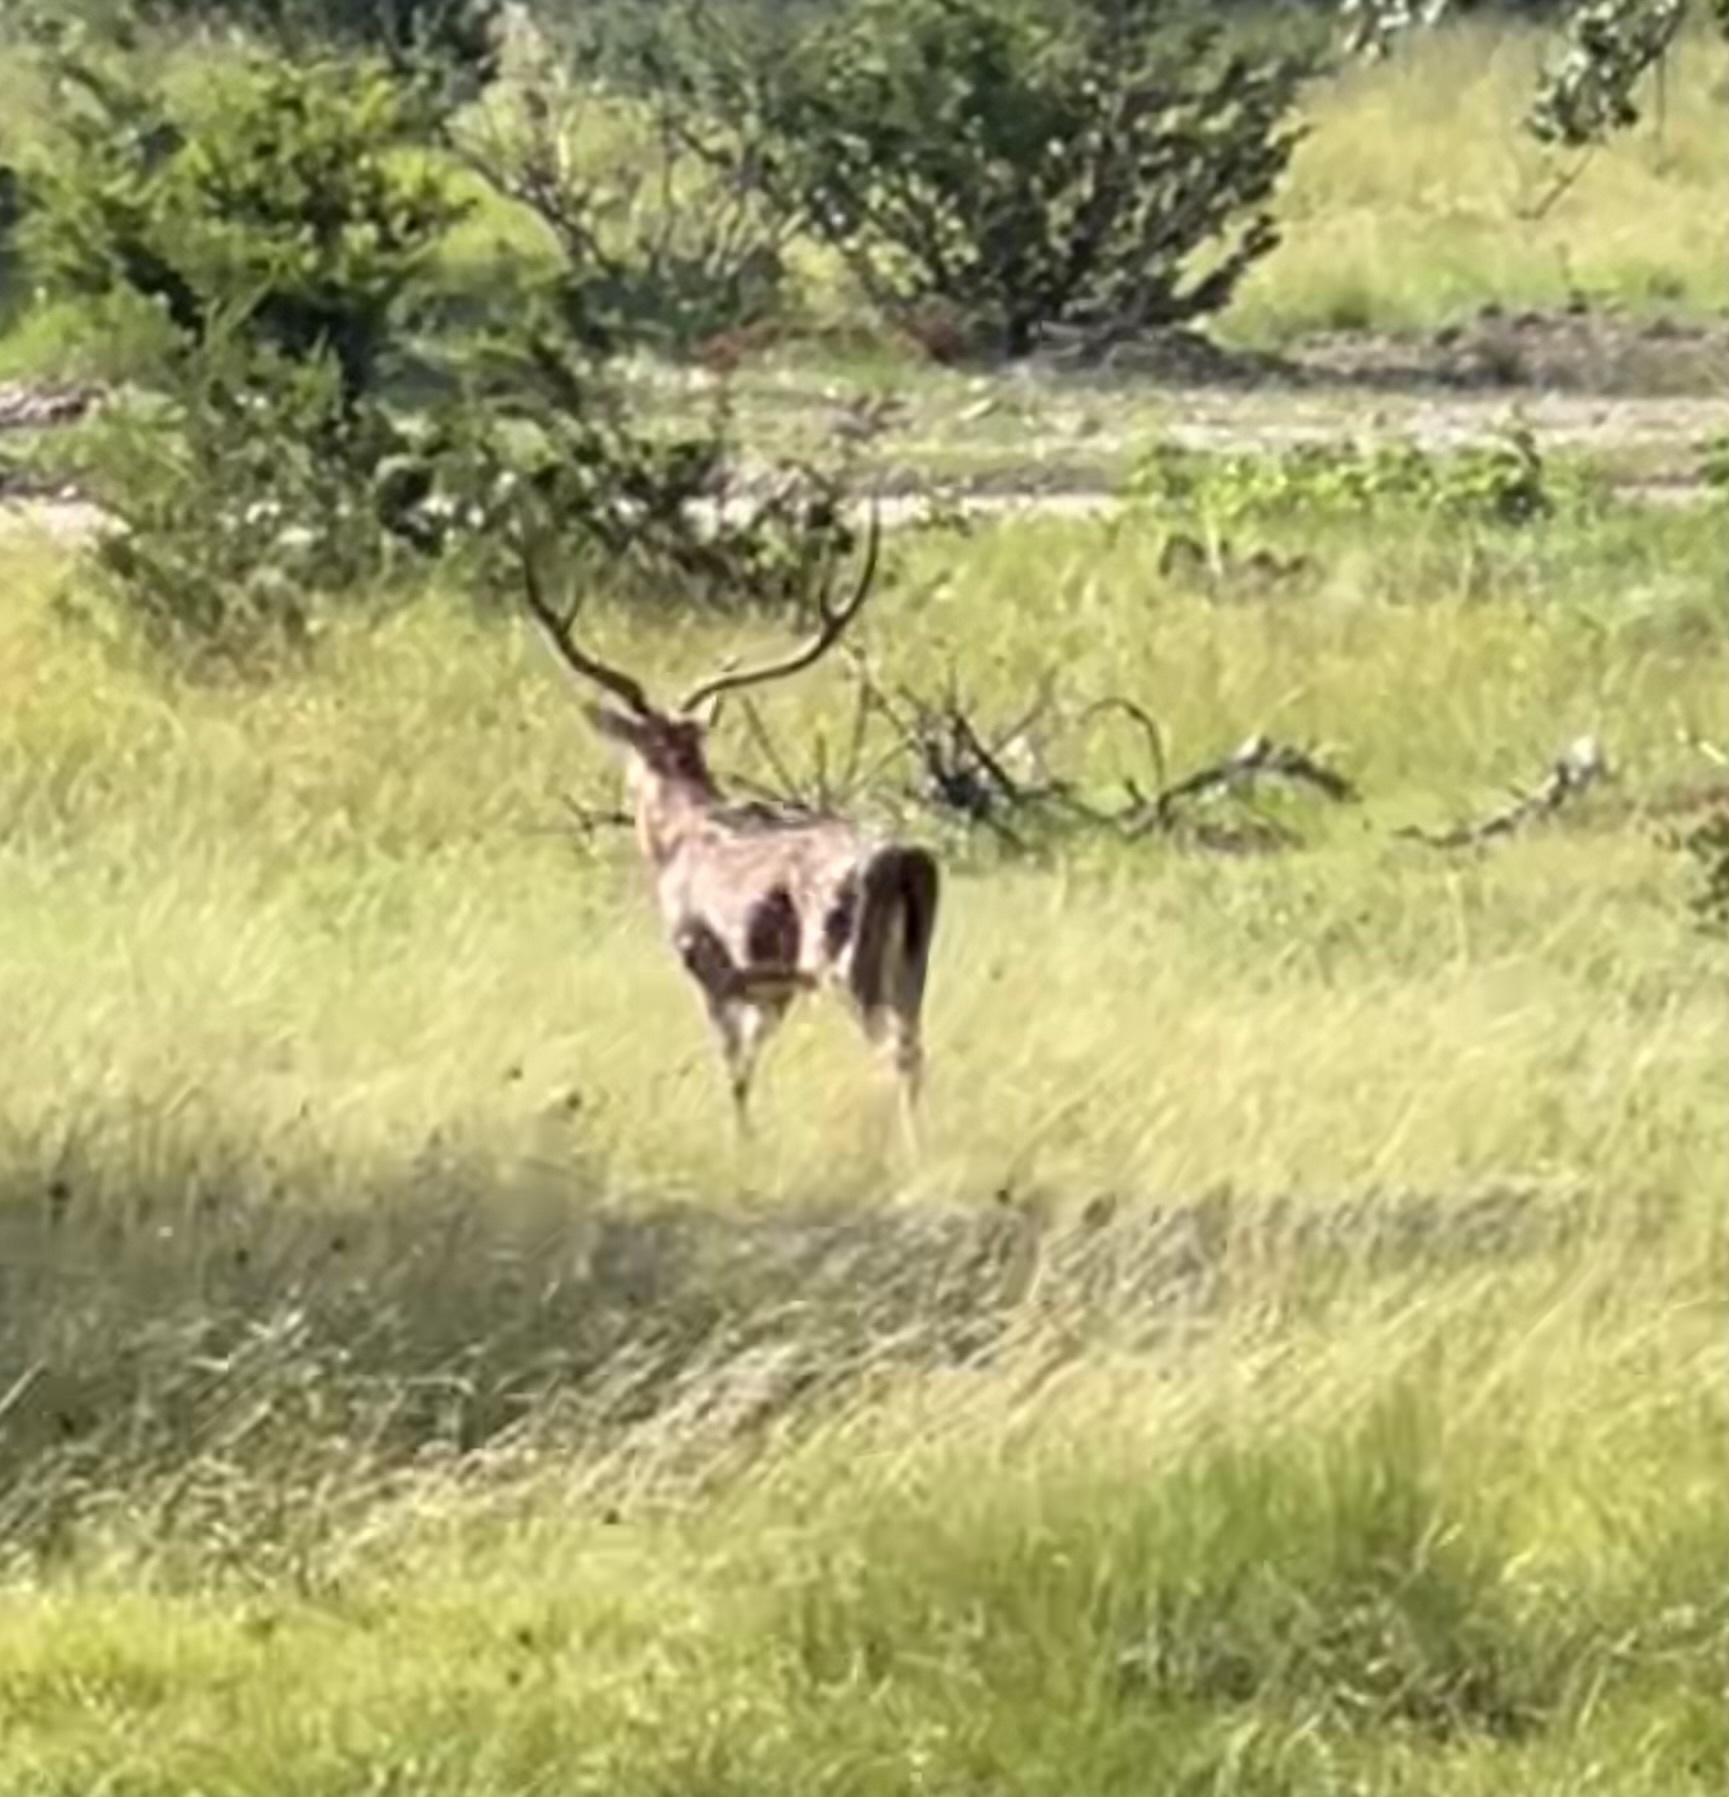Deer: (521, 521, 939, 1121)
